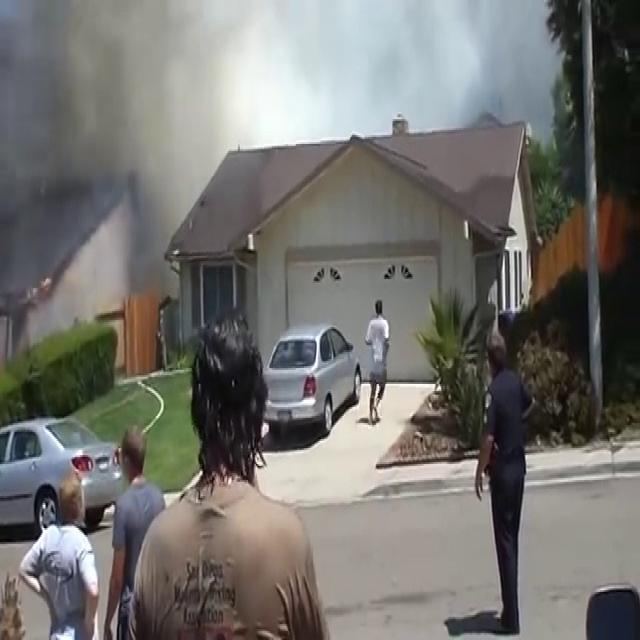Smoke: (0, 0, 202, 316)
